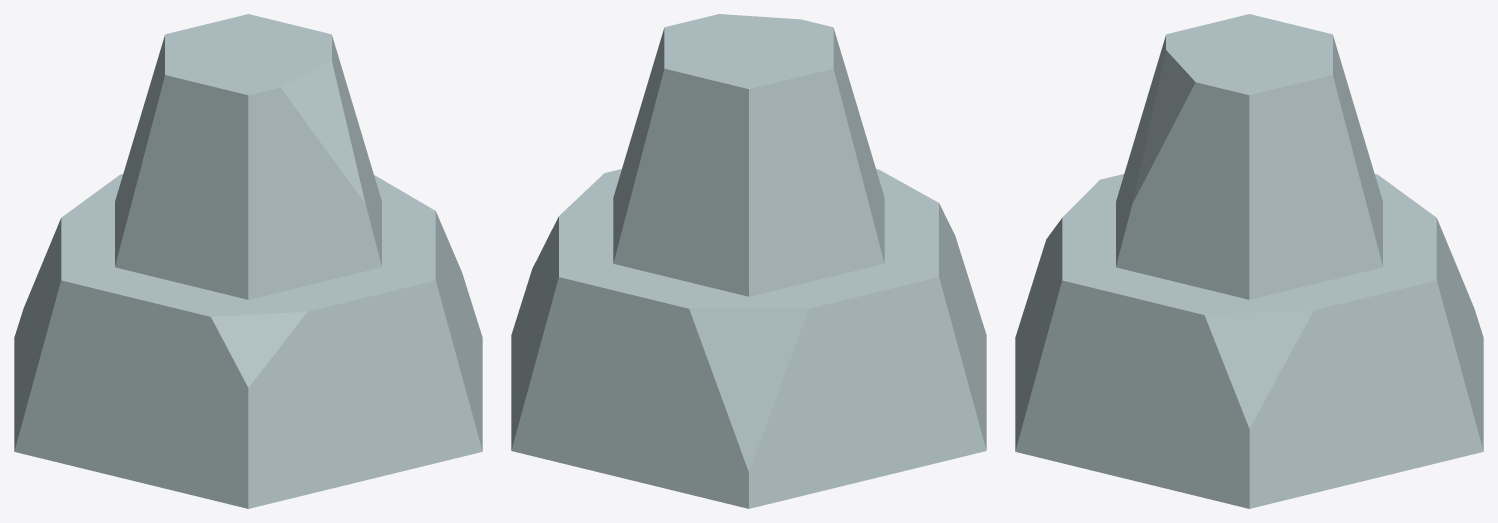
Rendered from stone_smallF.glb.
3 views of the same model, side by side, from view 1: azimuth 30°, elevation 25°; view 2: azimuth 150°, elevation 25°; view 3: azimuth 270°, elevation 25° (orthographic).
Visible parts, largest first — view 1: stone_smallF; view 2: stone_smallF; view 3: stone_smallF.
Boxes of the visible parts, x1,y1,x2,y2 form: stone_smallF: [14, 14, 482, 508]; stone_smallF: [511, 14, 986, 508]; stone_smallF: [1015, 14, 1483, 508].
Size of the model in its own units: 0.3536 by 0.2453 by 0.3062.
